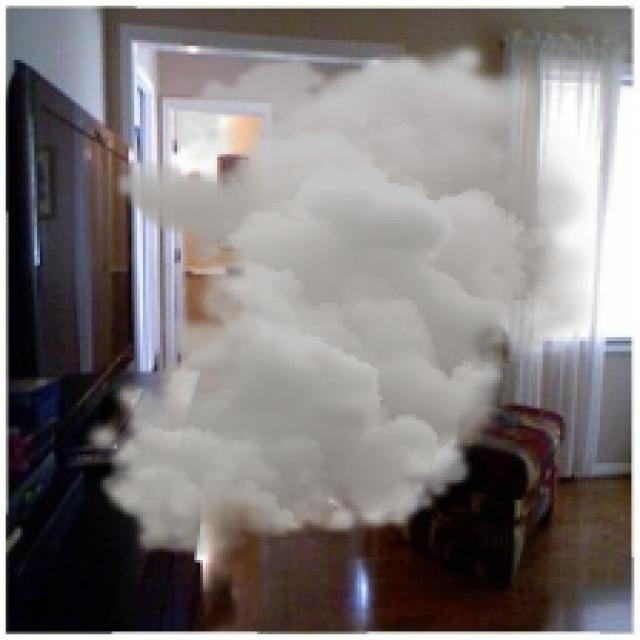Smoke: (80, 40, 609, 560)
